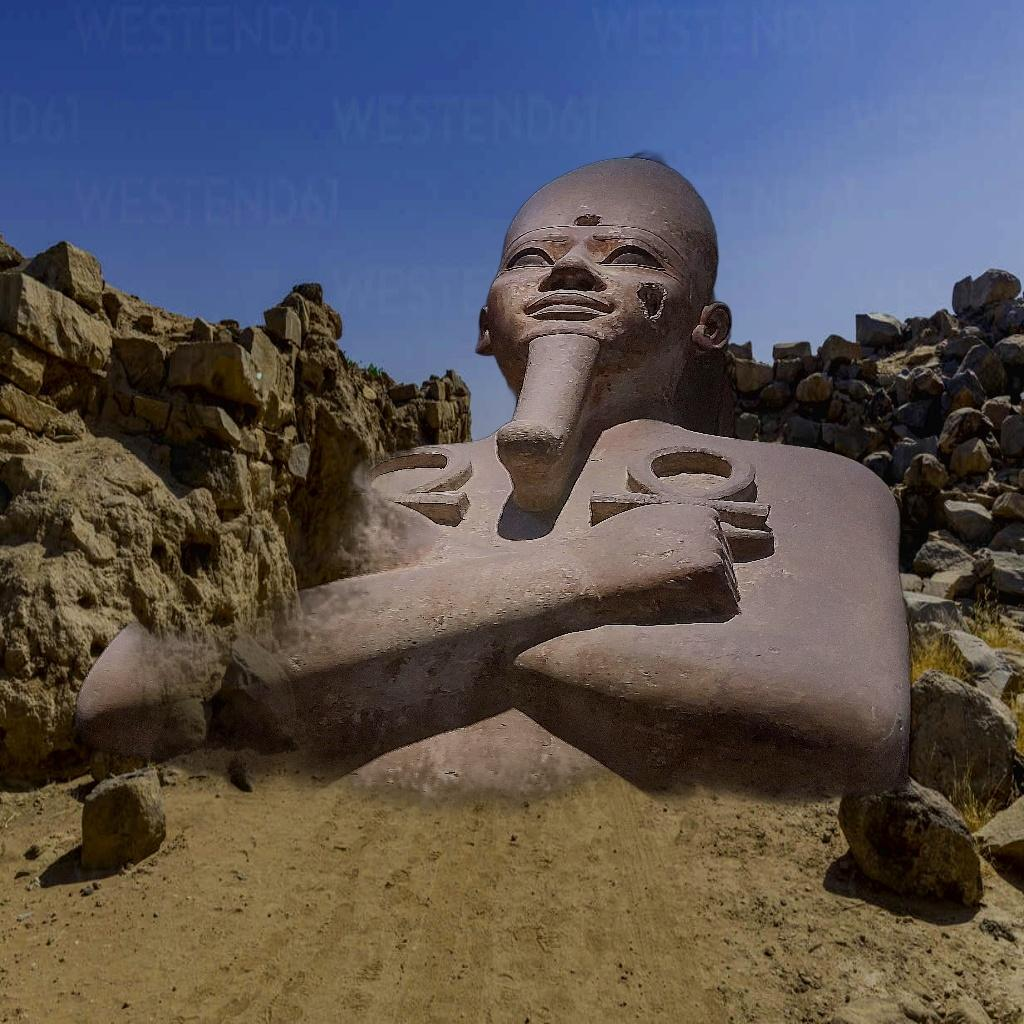Colossus of Senuseret I: (70, 142, 918, 1020)
